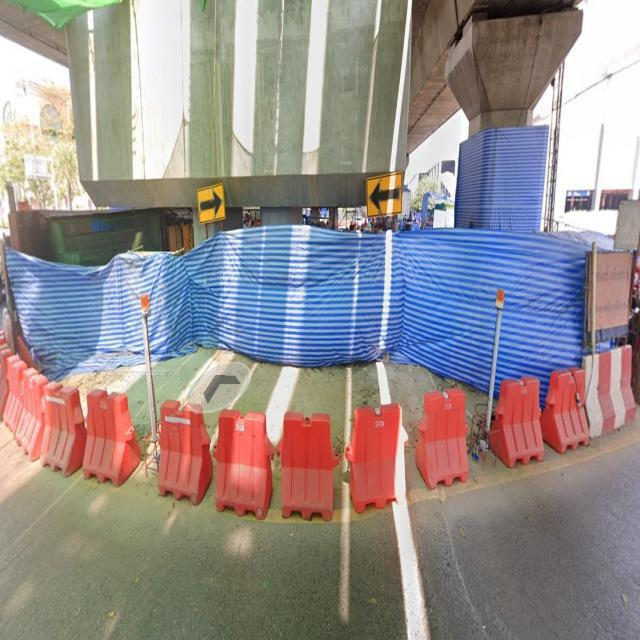fallen_object: (149, 397, 338, 526), (0, 346, 136, 489), (346, 393, 478, 505), (480, 373, 597, 467), (574, 336, 640, 435)
